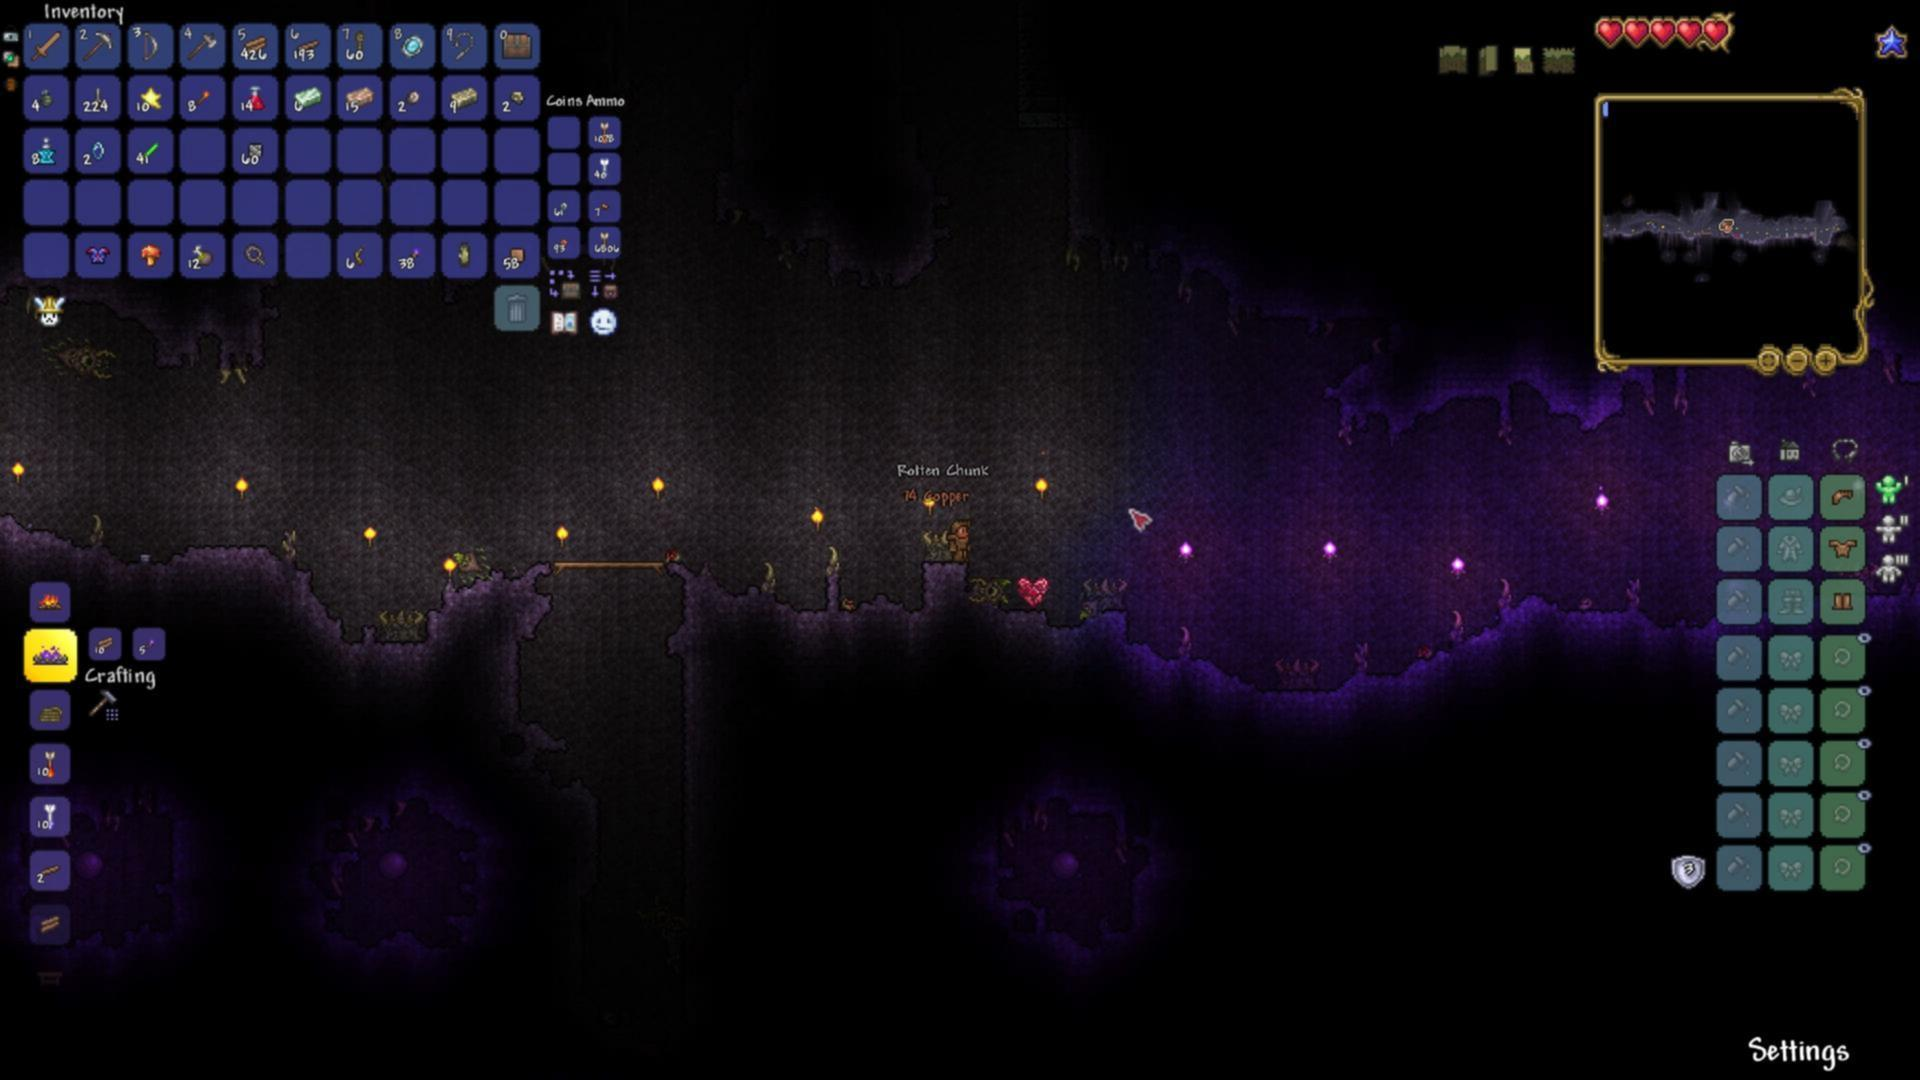chest: (500, 32, 531, 59)
lifeC: (1011, 571, 1050, 611)
potion: (245, 80, 265, 112)
recallP: (37, 135, 58, 165)
